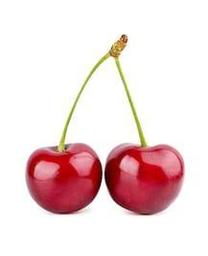cherry: (105, 144, 186, 216), (26, 142, 103, 215)
